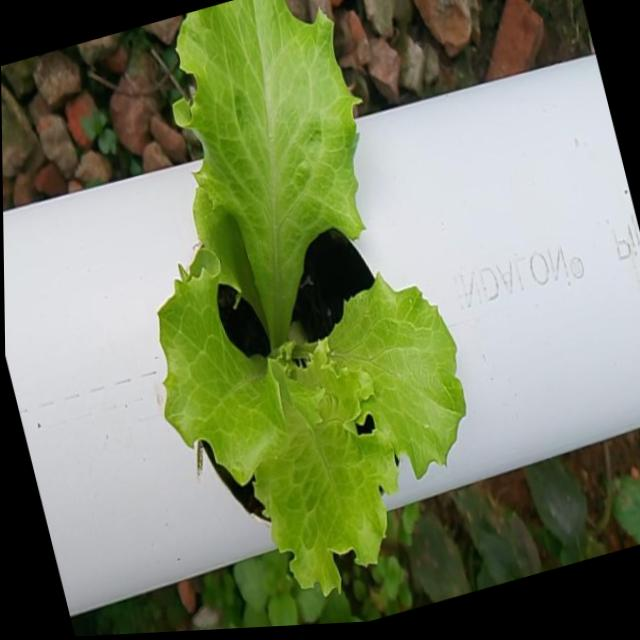Baby: (158, 0, 466, 594)
